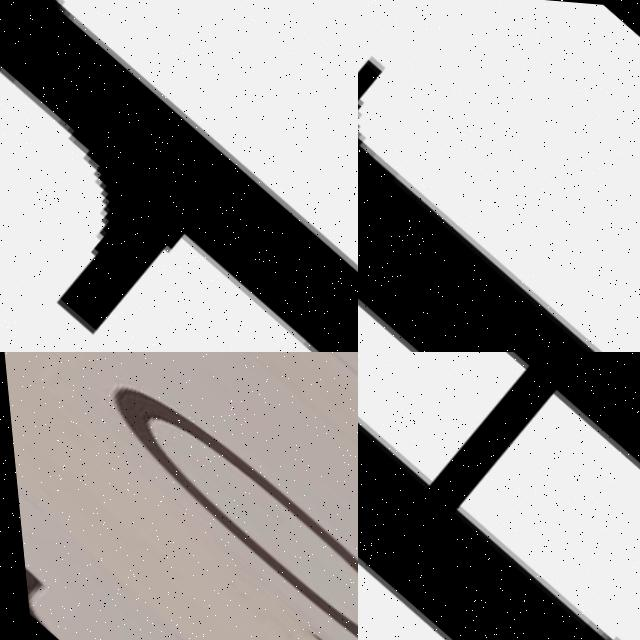0: (64, 352, 358, 640)
5: (9, 477, 201, 640)
F: (0, 0, 358, 352)
H: (358, 352, 640, 640)
I: (358, 126, 597, 352)
